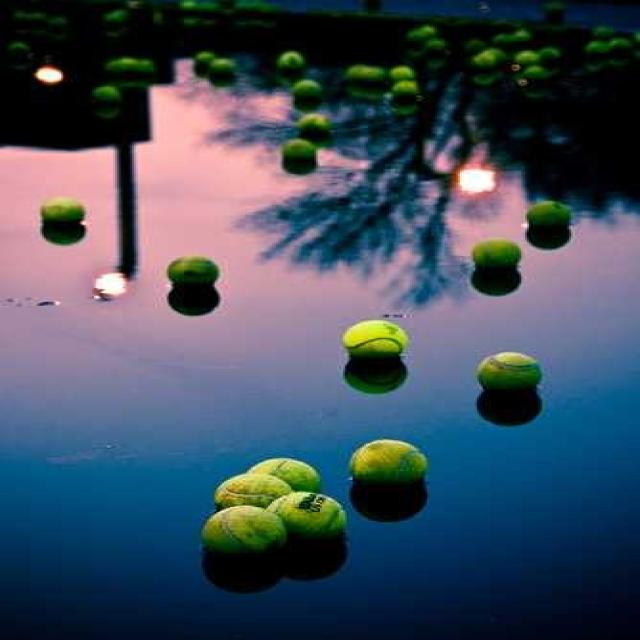Tennis_Ball: (280, 485, 343, 550), (355, 442, 431, 489), (479, 356, 561, 398), (208, 509, 278, 557), (213, 474, 283, 508), (172, 250, 228, 292), (522, 200, 582, 235), (350, 317, 402, 357), (36, 197, 93, 229), (474, 237, 525, 270), (276, 142, 328, 168), (261, 461, 311, 486), (89, 84, 134, 106), (347, 62, 386, 85), (297, 112, 335, 134), (395, 77, 429, 101), (132, 59, 170, 80), (273, 48, 304, 72), (297, 82, 321, 112), (211, 59, 235, 80), (474, 51, 496, 72), (108, 59, 132, 77), (604, 40, 634, 54), (489, 33, 522, 45), (526, 66, 550, 82), (194, 53, 216, 70), (428, 38, 450, 54), (583, 44, 610, 57), (516, 51, 539, 66), (591, 26, 611, 38), (465, 38, 483, 51), (542, 49, 565, 59), (517, 30, 532, 42), (632, 32, 640, 49)
